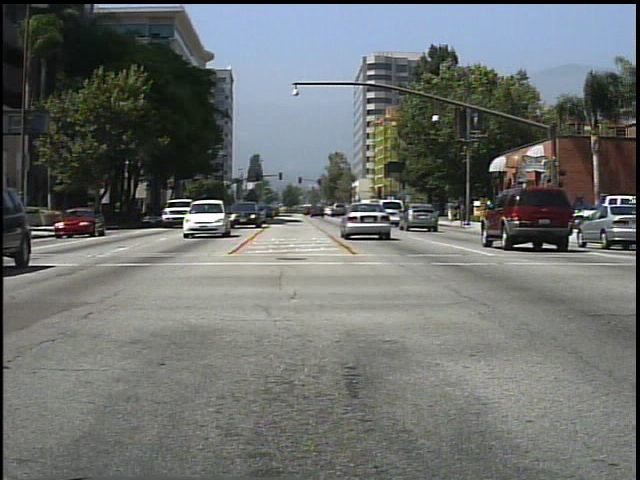person: (484, 195, 503, 229), (445, 195, 459, 225)
